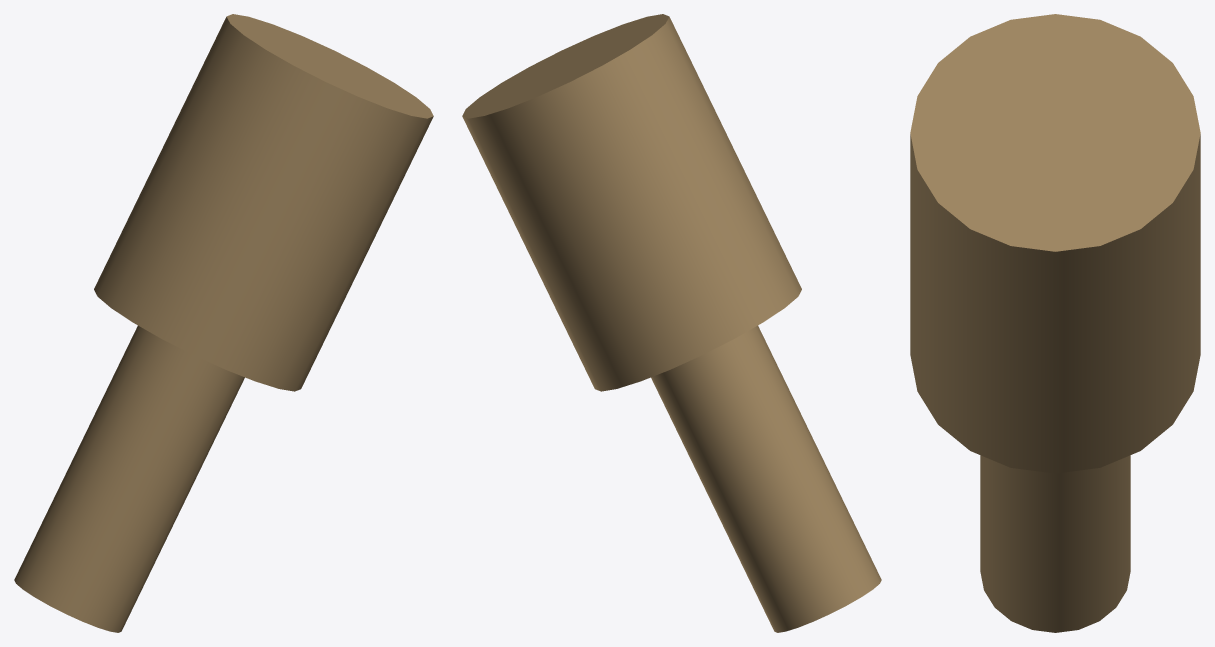
File: torch.fbx
3 renders of one model, left to right at view 1: azimuth 30°, elevation 25°; view 2: azimuth 150°, elevation 25°; view 3: azimuth 270°, elevation 25°, orthographic. The views are drawn at different scales.
Parts seen in each view (by area): view 1: torch1; view 2: torch1; view 3: torch1.
Part boxes in pixels (x1,y1,x2,y2): torch1: (14,14,433,632); torch1: (462,14,881,632); torch1: (910,14,1200,632).
Bounding box in the file's own units: 0.7623 × 1.03 × 0.3862.
